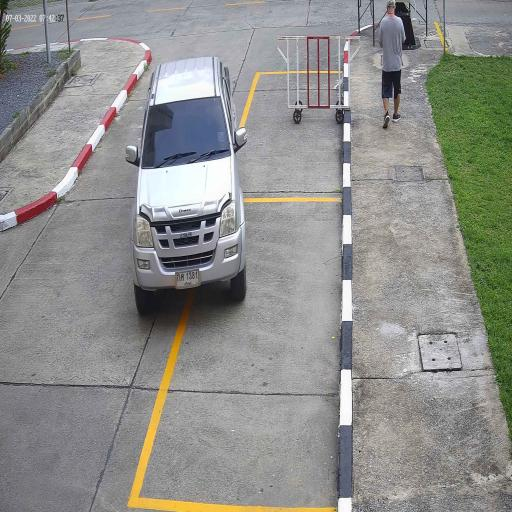car: (133, 58, 244, 309)
